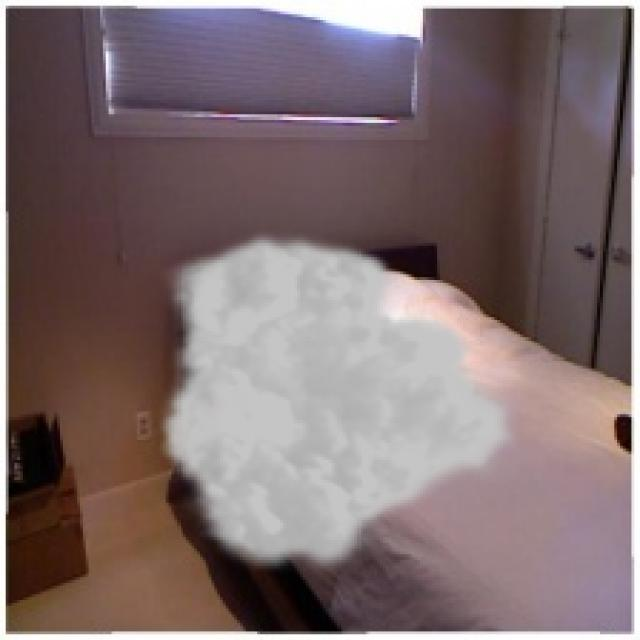smoke: (157, 229, 523, 580)
